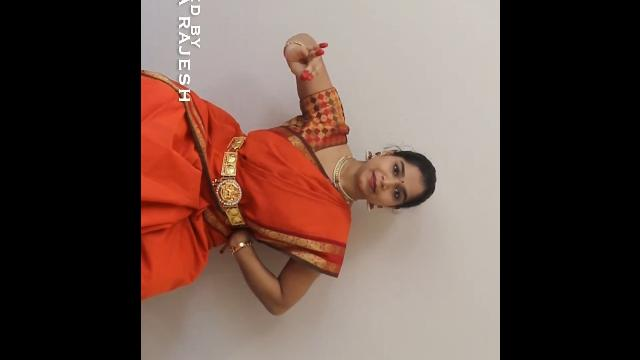katak: (281, 37, 339, 111)
